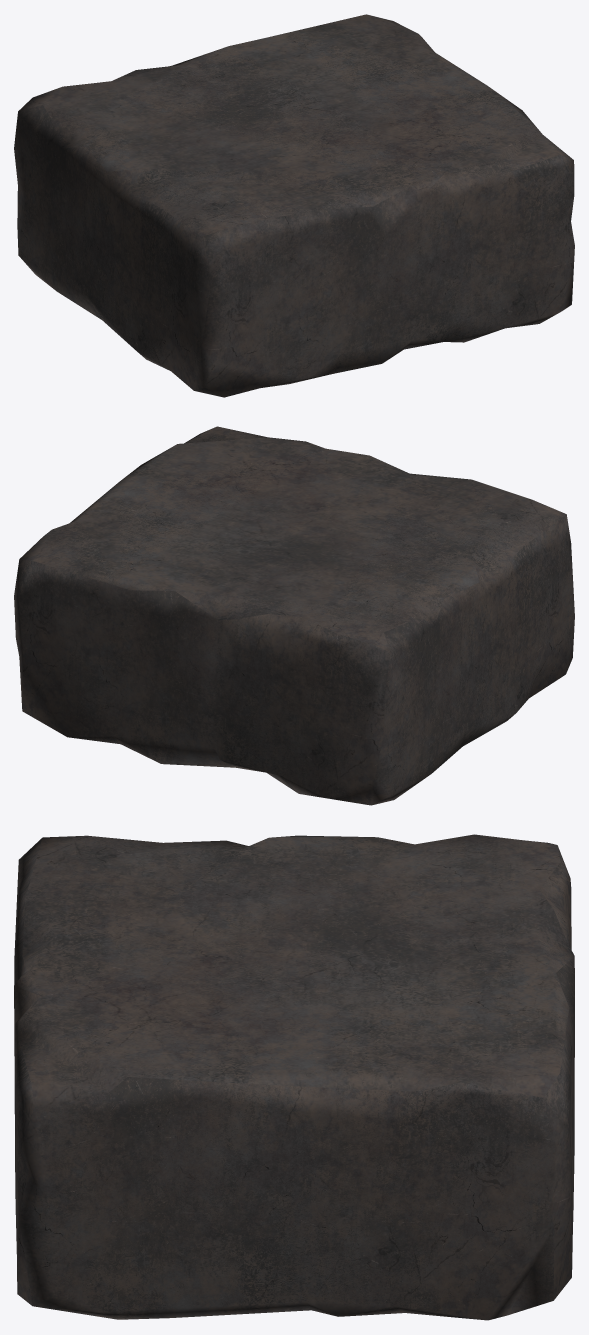
The model's file is SM_Block3.fbx.
The picture shows the model from 3 angles, top to bottom: view 1: azimuth 30°, elevation 25°; view 2: azimuth 150°, elevation 25°; view 3: azimuth 270°, elevation 25°; orthographic projection. The views are drawn at different scales.
Visible parts, largest first — view 1: SM_Block3_LOD0; view 2: SM_Block3_LOD0; view 3: SM_Block3_LOD0.
Part boxes in pixels (<box>): SM_Block3_LOD0: <box>14,14,574,397</box>; SM_Block3_LOD0: <box>14,426,574,805</box>; SM_Block3_LOD0: <box>14,834,574,1320</box>.
Bounding box in the file's own units: 112 × 101 × 48.12.
1 material, 1 textured.
